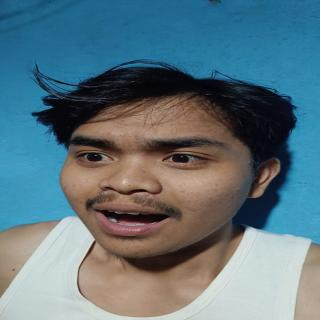Takut: (56, 91, 259, 263)
